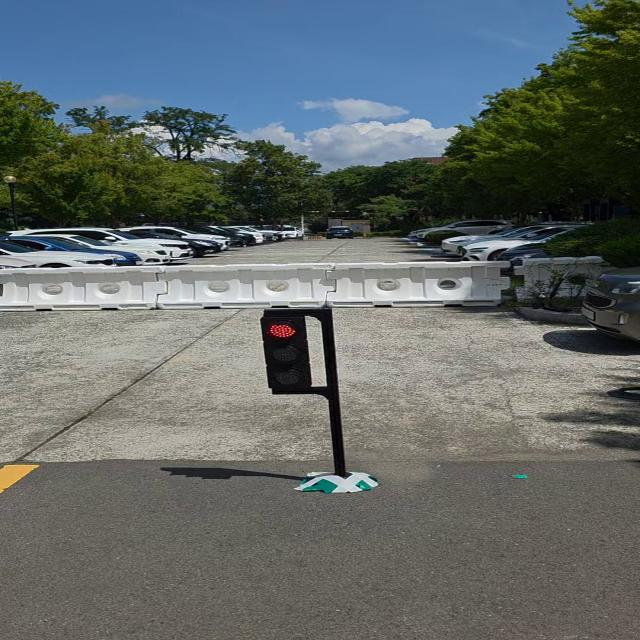red: (258, 311, 320, 392)
